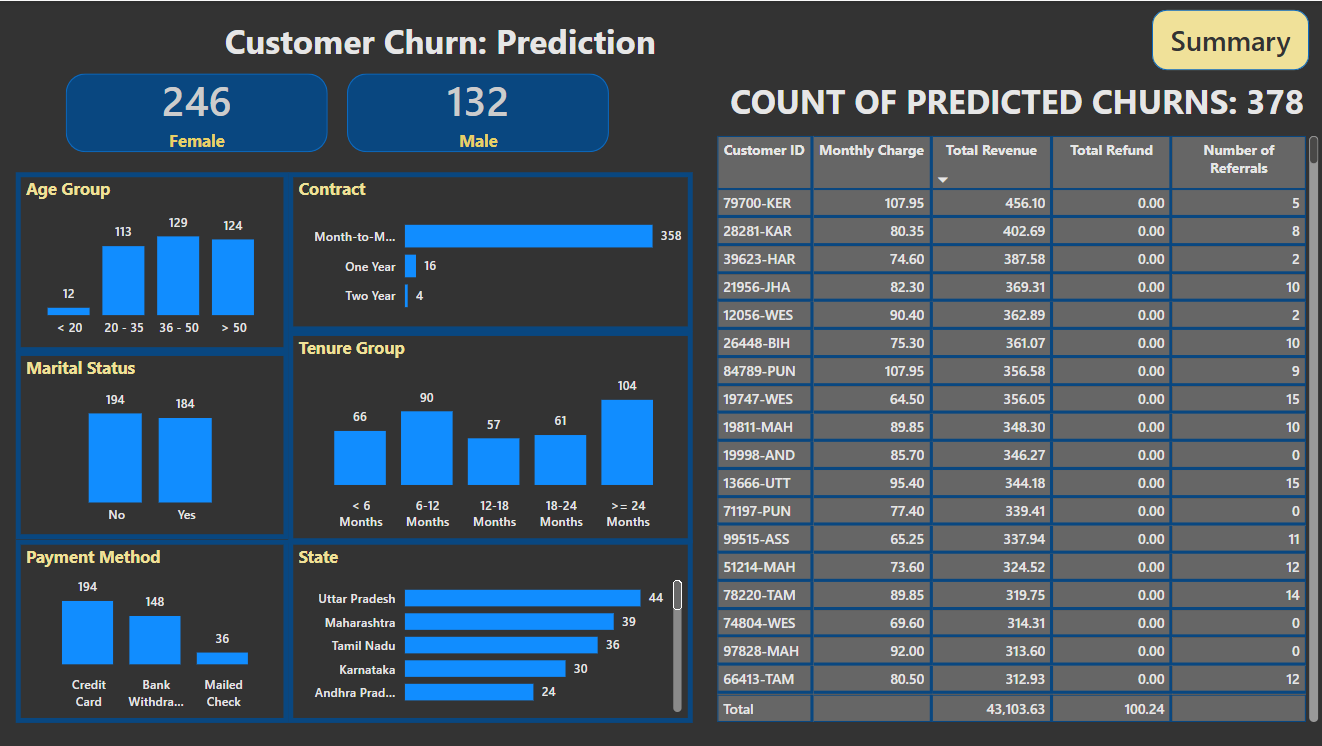

This screenshot's page, from the dashboard's own definition file:
{"tool":"powerbi","page":{"name":"Prediction","canvas":[1280,720],"ordinal":2},"visuals":[{"type":"group","id":"g1","title":"Group 1","box":[66.1,69.4,253,76],"z":0},{"type":"group","id":"g2","title":"Group 2","box":[338.3,70,253,76],"z":1000},{"type":"textbox","box":[215,11.7,473.3,55],"z":2000},{"type":"card","fields":{"Values":["Predictions.Count predicted churn"]},"box":[66.7,65,253.3,81.7],"z":3000},{"type":"card","fields":{"Values":["Predictions.Count predicted churn"]},"box":[333.3,46.7,263.3,118.3],"z":4000},{"type":"clusteredColumnChart","title":"Age Group","fields":{"Category":["Mapping_AgeGroup.Age Group"],"Y":["CountNonNull(Predictions.Customer_ID)"]},"box":[18.3,165,263.3,173.3],"z":5000},{"type":"clusteredColumnChart","title":"Marital Status","fields":{"Y":["CountNonNull(Predictions.Customer_ID)"],"Category":["Predictions.Married"]},"box":[18.3,338.3,263.3,181.7],"z":6000},{"type":"clusteredColumnChart","title":"Tenure Group","fields":{"Y":["CountNonNull(Predictions.Customer_ID)"],"Category":["Mapping_TenureGroup.Tenure Group"]},"box":[281.7,318.3,390,205],"z":7000},{"type":"clusteredColumnChart","title":"Payment Method","fields":{"Y":["CountNonNull(Predictions.Customer_ID)"],"Category":["Predictions.Payment_Method"]},"box":[18.3,520,263.3,176.7],"z":8000},{"type":"shape","box":[66.1,69.4,253,76],"z":9000,"group":"g1"},{"type":"clusteredBarChart","title":"Contract","fields":{"Category":["Predictions.Contract"],"Y":["CountNonNull(Predictions.Customer_ID)"]},"box":[281.7,165,390,153.3],"z":9000},{"type":"clusteredBarChart","title":"State","fields":{"Category":["Predictions.State"],"Y":["CountNonNull(Predictions.Customer_ID)"]},"box":[281.7,520,390,176.7],"z":10000},{"type":"tableEx","fields":{"Values":["Predictions.Customer_ID","Predictions.Monthly_Charge","Sum(Predictions.Total_Revenue)","Sum(Predictions.Total_Refunds)","Predictions.Number_of_Referrals"]},"box":[688.3,125,591.7,575],"z":11000},{"type":"card","fields":{"Values":["Predictions.Title predicted churn"]},"box":[688.3,70,591.7,55],"z":12000},{"type":"shape","title":"Summary","box":[1115,8.3,151.7,58.3],"z":13000},{"type":"shape","box":[338.3,70,253,76],"z":13000,"group":"g2"}]}

Visuals, with their boxes in screenshot pixels (x1, y1, x2, y2), scaled from the page's 1280x720 canvas onto the 1322x746 screenshot:
"Group 1" group: [x1=68, y1=72, x2=330, y2=151]
"Group 2" group: [x1=349, y1=73, x2=611, y2=151]
textbox: [x1=222, y1=12, x2=711, y2=69]
card - Predictions.Count predicted churn: [x1=69, y1=67, x2=330, y2=152]
card - Predictions.Count predicted churn: [x1=344, y1=48, x2=616, y2=171]
"Age Group" clusteredColumnChart: [x1=19, y1=171, x2=291, y2=351]
"Marital Status" clusteredColumnChart: [x1=19, y1=351, x2=291, y2=539]
"Tenure Group" clusteredColumnChart: [x1=291, y1=330, x2=694, y2=542]
"Payment Method" clusteredColumnChart: [x1=19, y1=539, x2=291, y2=722]
shape: [x1=68, y1=72, x2=330, y2=151]
"Contract" clusteredBarChart: [x1=291, y1=171, x2=694, y2=330]
"State" clusteredBarChart: [x1=291, y1=539, x2=694, y2=722]
tableEx - Predictions.Customer_ID x Predictions.Monthly_Charge: [x1=711, y1=130, x2=1321, y2=725]
card - Predictions.Title predicted churn: [x1=711, y1=73, x2=1321, y2=130]
"Summary" shape: [x1=1152, y1=9, x2=1308, y2=69]
shape: [x1=349, y1=73, x2=611, y2=151]
